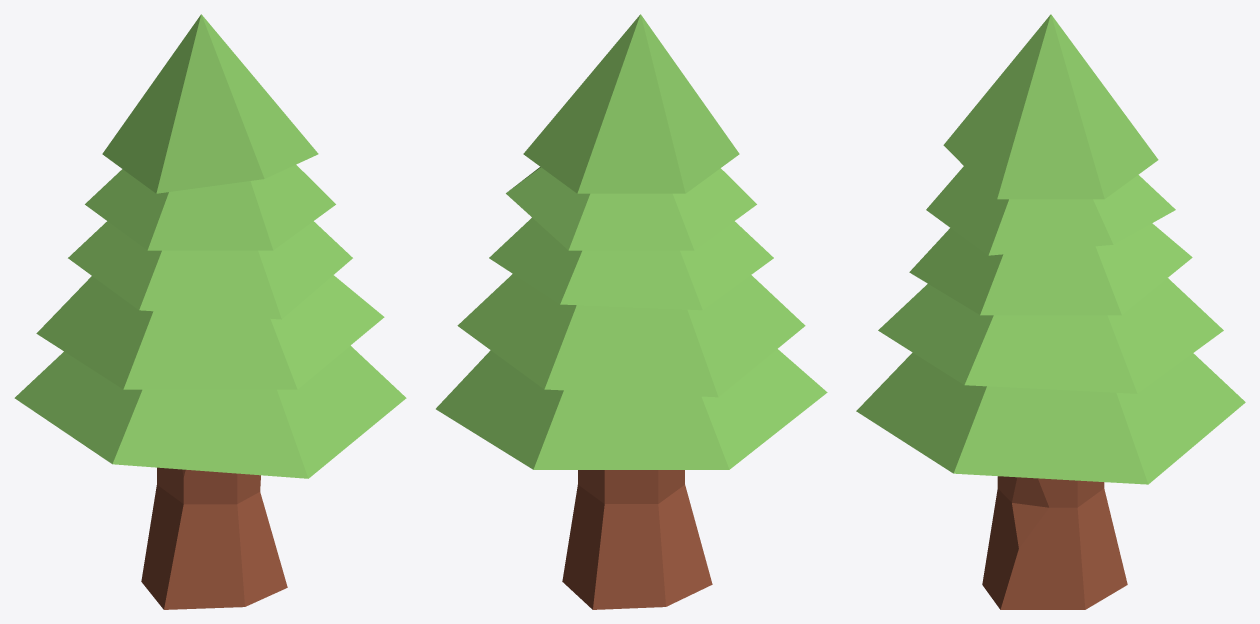
File: Tree_Cylinder_001.glb
3 renders of one model, left to right at view 1: azimuth 30°, elevation 25°; view 2: azimuth 150°, elevation 25°; view 3: azimuth 270°, elevation 25°, orthographic.
Parts seen in each view (by area): view 1: Tree_Cylinder.001; view 2: Tree_Cylinder.001; view 3: Tree_Cylinder.001.
Boxes of the visible parts, x1,y1,x2,y2 form: Tree_Cylinder.001: (14,14,406,609); Tree_Cylinder.001: (436,14,827,609); Tree_Cylinder.001: (856,14,1245,609).
Bounding box in the file's own units: 1.51 × 2.79 × 1.74.
